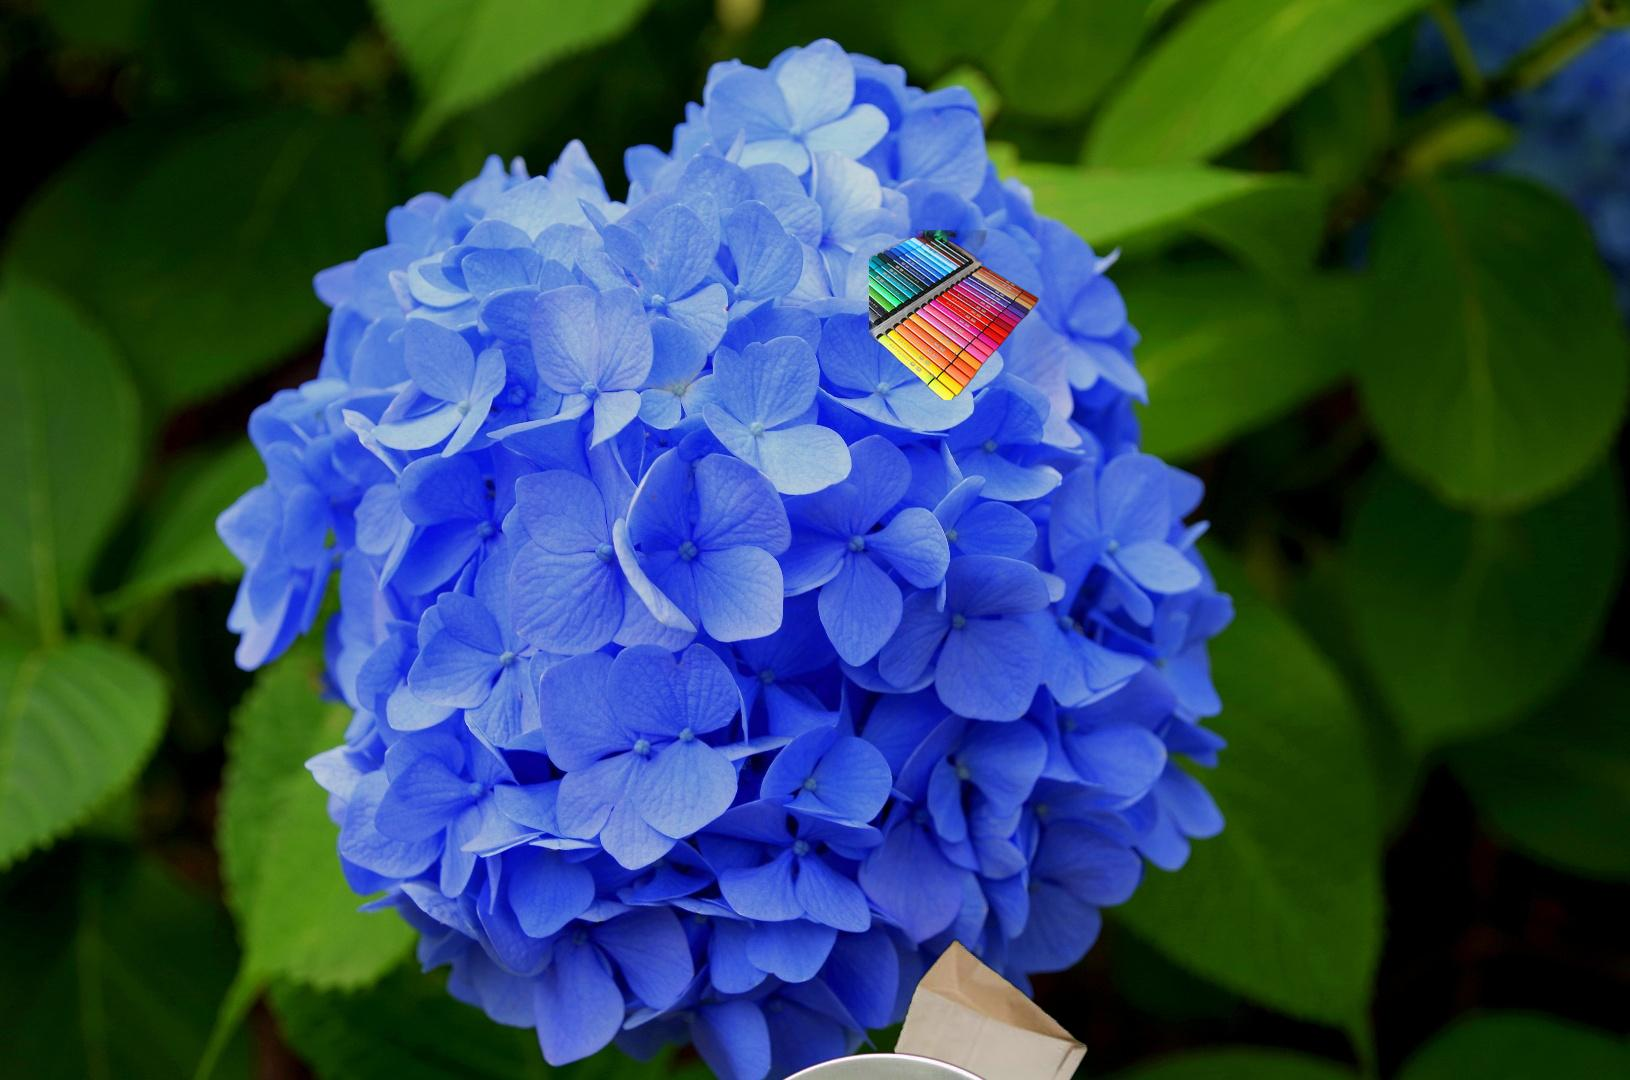battery: (692, 1049, 1076, 1080)
metal-cans: (1020, 994, 1228, 1080)
paper-bag: (890, 937, 1091, 1080)
penholder: (869, 230, 1038, 400)
